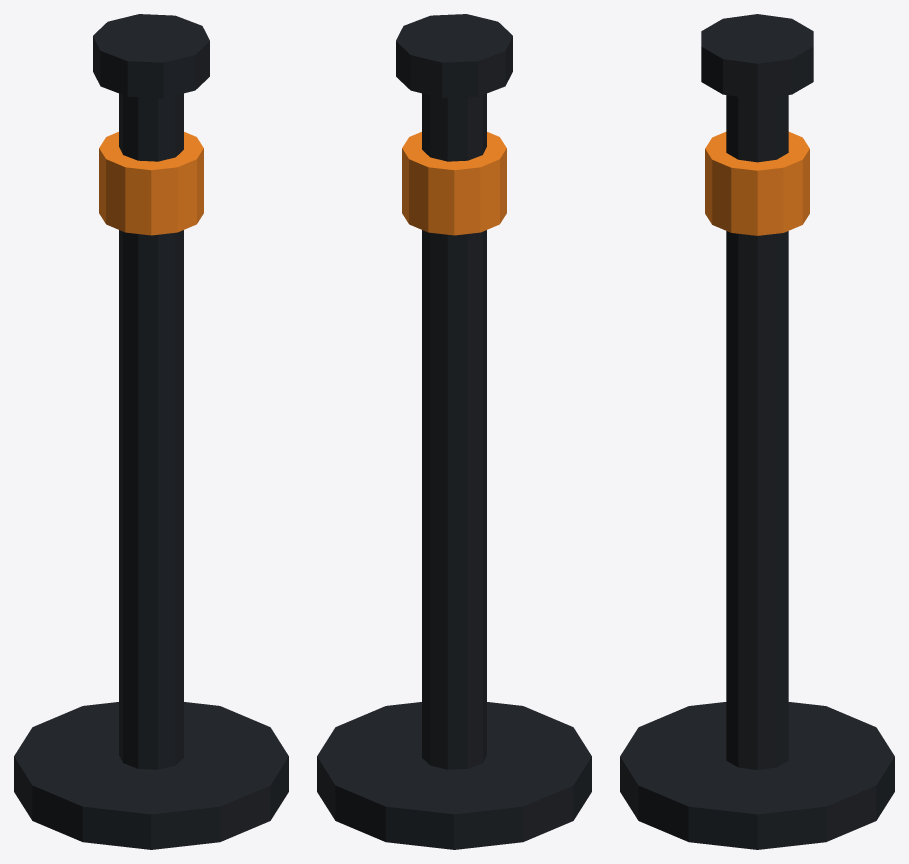
The model's file is zip-pole.glb.
3 renders of one model, left to right at view 1: azimuth 30°, elevation 25°; view 2: azimuth 150°, elevation 25°; view 3: azimuth 270°, elevation 25°, orthographic.
Parts seen in each view (by area): view 1: zip-pole; view 2: zip-pole; view 3: zip-pole.
Boxes of the visible parts, x1,y1,x2,y2 form: zip-pole: (14,14,288,849); zip-pole: (317,14,591,849); zip-pole: (620,14,894,849).
Bounding box in the file's own units: 0.84 × 2.54 × 0.84.
